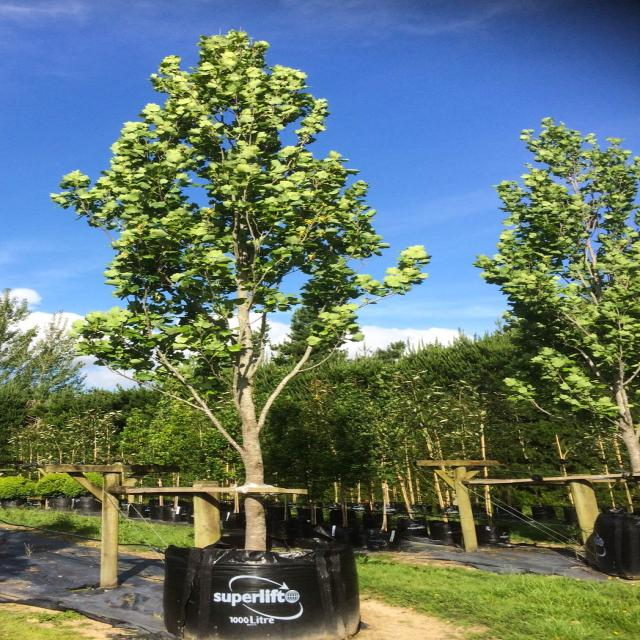Tulip: (63, 32, 432, 558)
